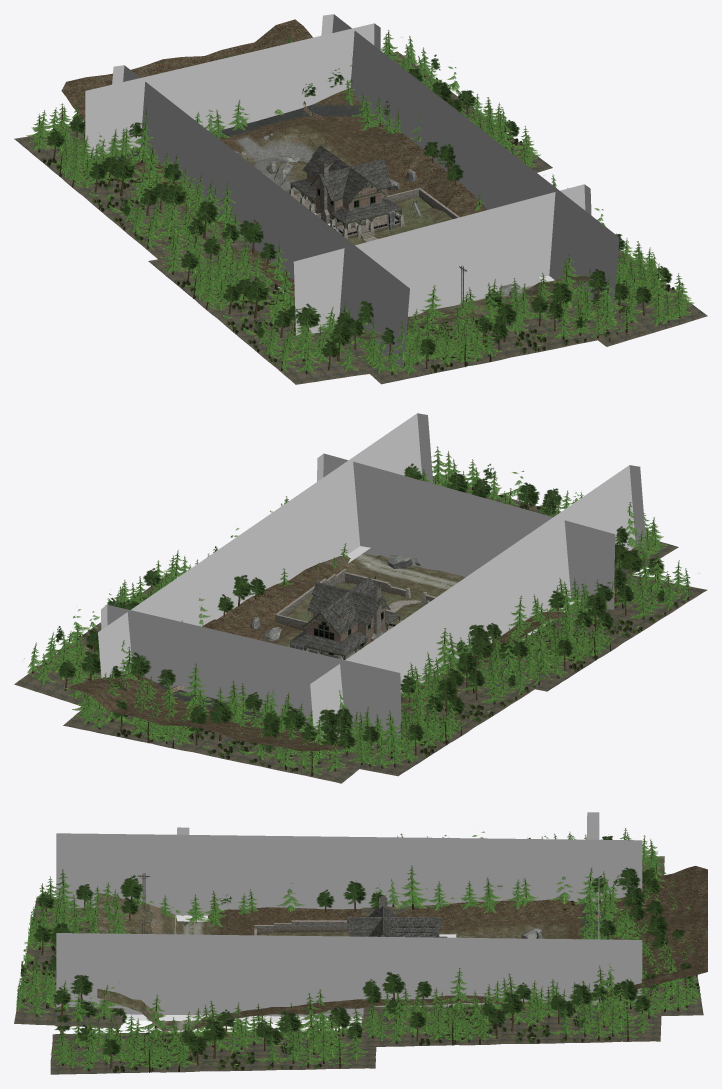
File: House.optimized.glb
3 views of the same model, one above another, from view 1: azimuth 30°, elevation 25°; view 2: azimuth 150°, elevation 25°; view 3: azimuth 270°, elevation 25° (orthographic). The views are drawn at different scales.
Visible parts, largest first — view 1: Plane.001, Plane.003, Plane.002, Plane, Yard floor, Object_2.001, Object_2.004, Object_2.005, Object_3.001, Object_4.001, Object_3.004, Roofs (+38 smaller); view 2: Plane.003, Plane.002, Plane.001, Plane, Yard floor, Object_2.005, Object_3.005, Object_2, Roofs, Object_2.004, Object_8.005, Object_3.004 (+36 smaller); view 3: Plane.002, Plane.003, Yard floor, Object_2.003, Object_2.002, Object_3.003, Object_3.002, Object_4.003, Object_4.002, Object_3.001, Object_2.001, Object_8.002 (+38 smaller).
Part boxes in pixels (bbox=[...]): Plane.001: bbox=[293, 184, 591, 335]; Plane.003: bbox=[112, 65, 409, 367]; Plane.002: bbox=[321, 14, 619, 312]; Plane: bbox=[85, 23, 380, 159]; Yard floor: bbox=[61, 19, 486, 301]; Object_2.001: bbox=[337, 294, 657, 384]; Object_2.004: bbox=[148, 253, 368, 384]; Object_2.005: bbox=[14, 129, 254, 262]; Object_3.001: bbox=[358, 260, 641, 374]; Object_4.001: bbox=[417, 254, 610, 365]; Object_3.004: bbox=[159, 226, 372, 373]; Roofs: bbox=[290, 145, 402, 223]; Plane.003: bbox=[310, 465, 645, 738]; Plane.002: bbox=[98, 413, 433, 678]; Plane.001: bbox=[317, 453, 615, 609]; Plane: bbox=[101, 604, 401, 738]; Yard floor: bbox=[69, 564, 564, 751]; Object_2.005: bbox=[302, 660, 558, 776]; Object_3.005: bbox=[337, 633, 545, 767]; Object_2: bbox=[63, 709, 358, 783]; Roofs: bbox=[289, 576, 400, 655]; Object_2.004: bbox=[491, 575, 707, 691]; Object_8.005: bbox=[301, 634, 515, 745]; Object_3.004: bbox=[488, 550, 694, 680]; Plane.002: bbox=[56, 933, 642, 1023]; Plane.003: bbox=[56, 833, 642, 921]; Yard floor: bbox=[225, 866, 707, 1016]; Object_2.003: bbox=[50, 1031, 376, 1074]; Object_2.002: bbox=[361, 1003, 662, 1047]; Object_3.003: bbox=[50, 993, 368, 1069]; Object_3.002: bbox=[361, 966, 654, 1042]; Object_4.003: bbox=[117, 989, 334, 1068]; Object_4.002: bbox=[422, 963, 623, 1041]; Object_3.001: bbox=[16, 869, 120, 1018]; Object_2.001: bbox=[14, 898, 124, 1028]; Object_8.002: bbox=[362, 972, 650, 1028].
Size of the model in its own units: 357 by 112 by 556.
108 materials, 104 textured.
